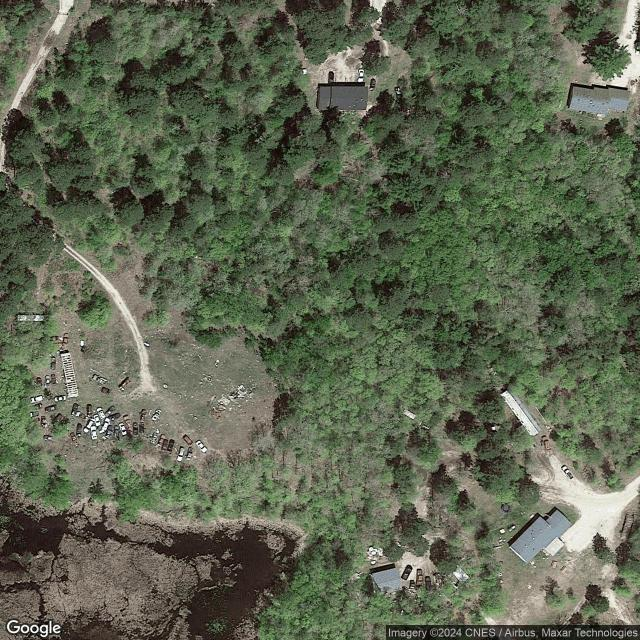Propane: (508, 524, 517, 534)
